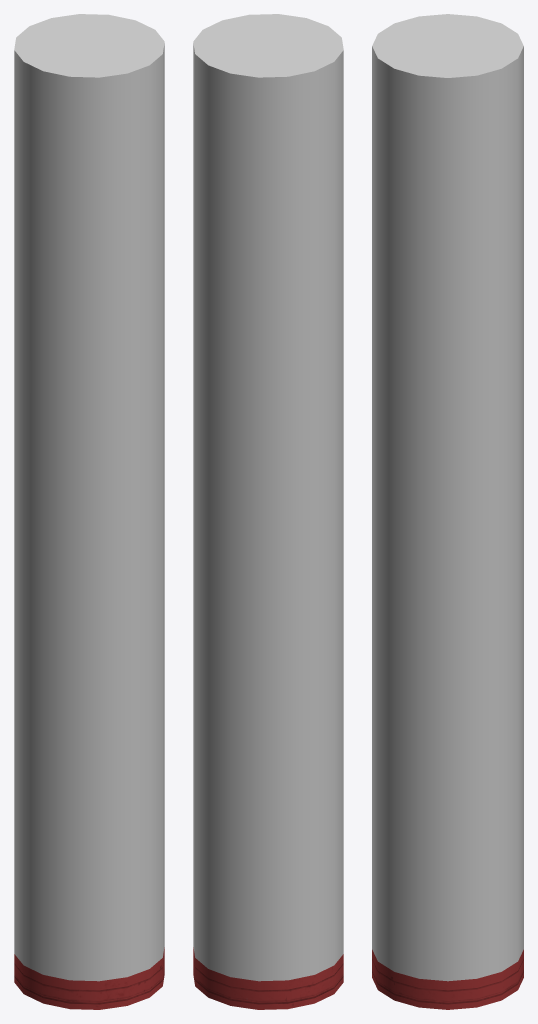
Rendered from MB_Column_A_01.fbx.
3 views of the same model, side by side, from view 1: azimuth 30°, elevation 25°; view 2: azimuth 150°, elevation 25°; view 3: azimuth 270°, elevation 25° (orthographic).
Parts seen in each view (by area): view 1: MB_Column_A_01; view 2: MB_Column_A_01; view 3: MB_Column_A_01.
Boxes of the visible parts, x1,y1,x2,y2 form: MB_Column_A_01: [14, 14, 164, 1009]; MB_Column_A_01: [193, 14, 343, 1009]; MB_Column_A_01: [372, 14, 523, 1009].
Size of the model in its own units: 59.04 by 400 by 59.04.
